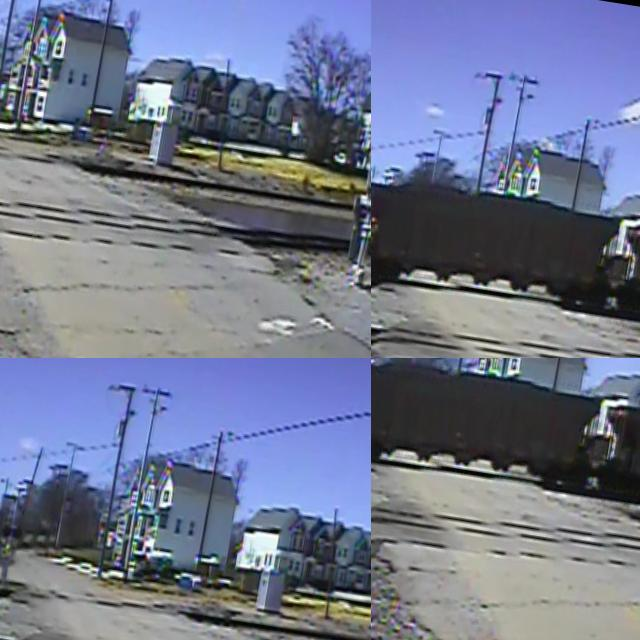barrier: (347, 0, 371, 140), (21, 442, 47, 526), (0, 0, 18, 75)
rails: (0, 136, 371, 320), (0, 97, 371, 247), (371, 457, 640, 605), (0, 548, 371, 640), (0, 577, 371, 640), (371, 277, 640, 358)
traffic-signal: (337, 135, 371, 308), (0, 511, 29, 593), (0, 67, 18, 139)
train: (371, 147, 640, 358), (371, 358, 640, 544)
